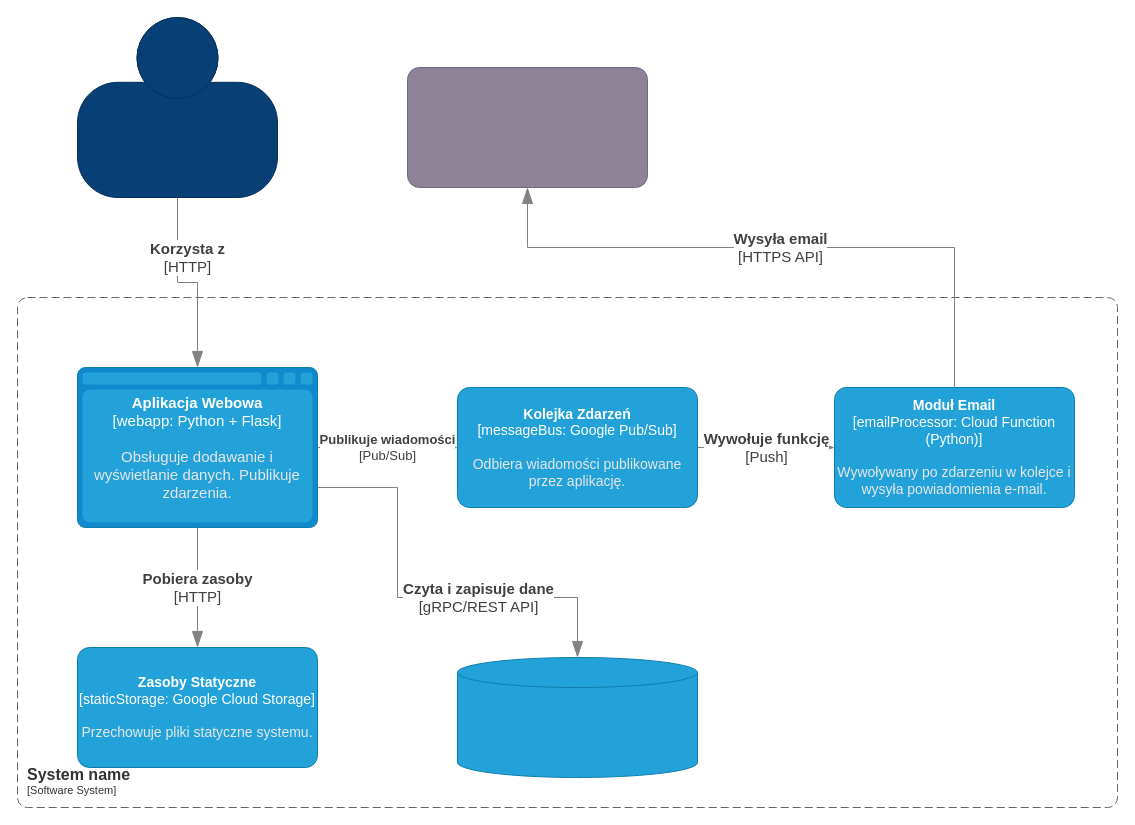
Some shapes in this 1135 by 825 pixel diagram are drawn without their labels. Each missing label, with the centre of its shape:
Baza Danych [database: Cloud Firestore] Przechowuje dane użytkowników.: the point at 577,717
Użytkownik [user] Korzysta z aplikacji webowej: the point at 177,107
Zewnętrzny Email [emailService] Odbiera żądania wysyłki wiadomości: the point at 527,127
